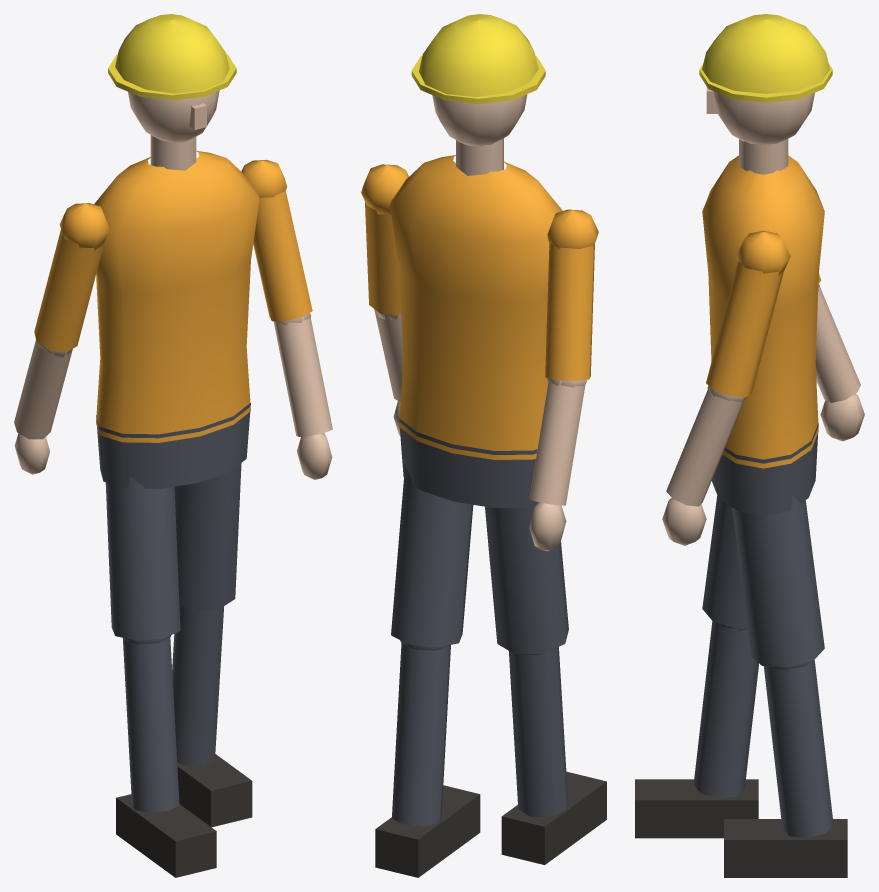
File: person_h.glb
3 renders of one model, left to right at view 1: azimuth 30°, elevation 25°; view 2: azimuth 150°, elevation 25°; view 3: azimuth 270°, elevation 25°, orthographic. The views are drawn at different scales.
Visible parts, largest first — view 1: person; view 2: person; view 3: person.
Boxes of the visible parts, bbox=[...] form: person: bbox=[14, 14, 332, 877]; person: bbox=[361, 14, 606, 877]; person: bbox=[635, 14, 864, 877].
Bounding box in the file's own units: 0.0293 × 0.0924 × 0.0233.
